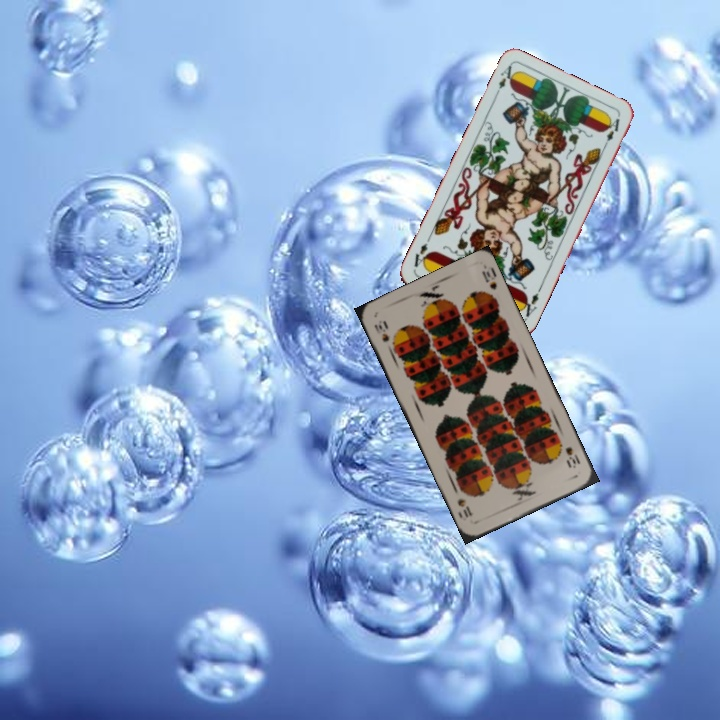EA: (491, 61, 518, 100), (517, 284, 543, 323)
S10: (370, 316, 392, 345), (561, 443, 583, 471)
